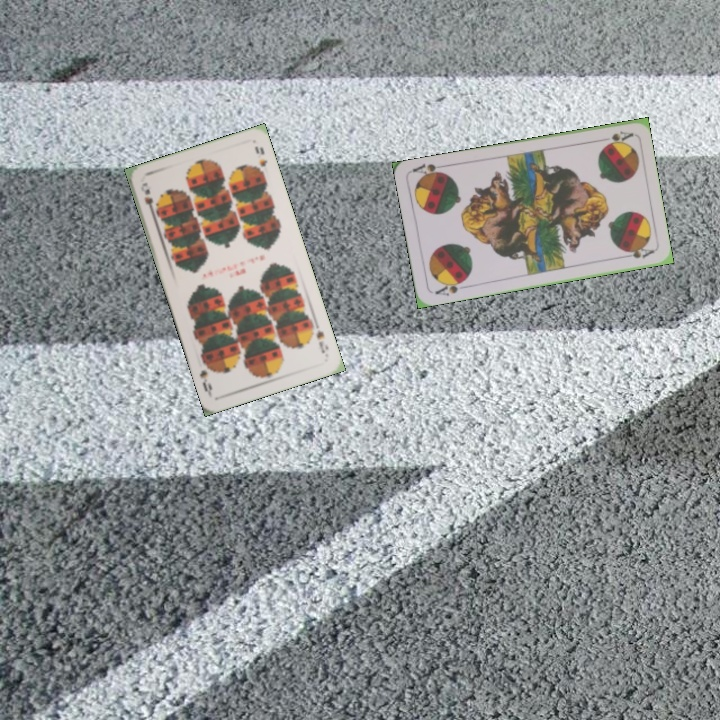S9: (136, 178, 161, 218), (311, 320, 331, 356)
SA: (431, 275, 469, 299), (594, 127, 635, 147)
